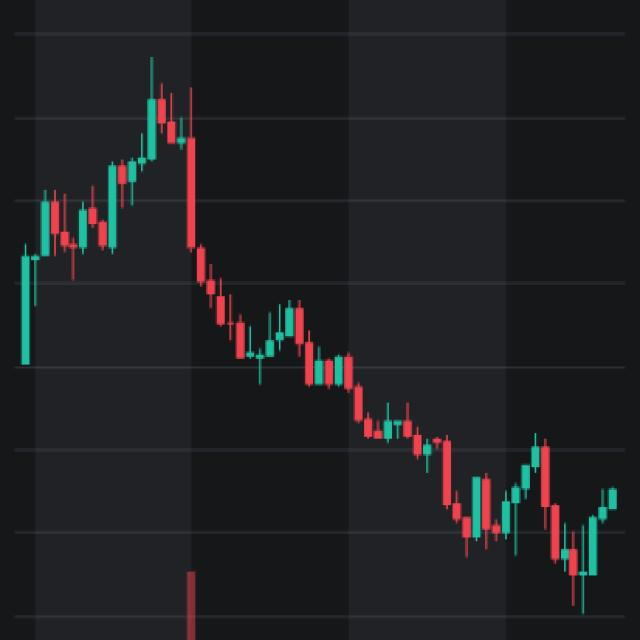Support-breakout: (104, 67, 463, 526)
